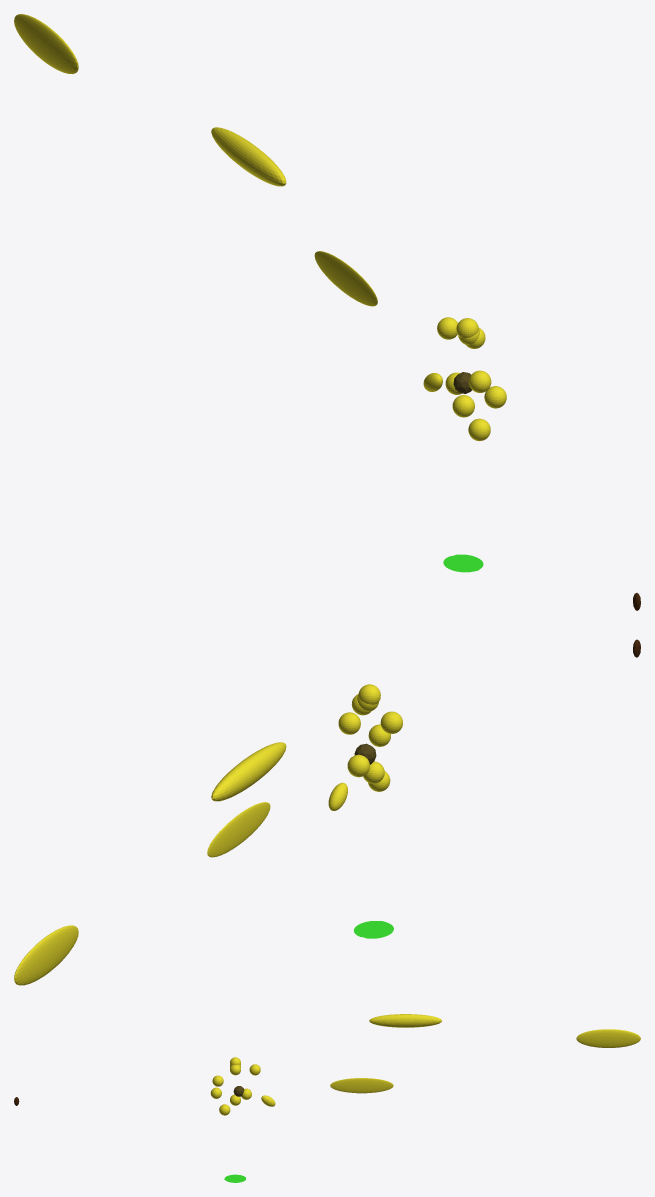
File: Sunflower.fbx
3 views of the same model, one above another, from view 1: azimuth 30°, elevation 25°; view 2: azimuth 150°, elevation 25°; view 3: azimuth 270°, elevation 25° (orthographic). The views are drawn at different scales.
Visible parts, largest first — view 1: Sphere.012, Sphere.011, Sphere.010; view 2: Sphere.012, Sphere.011, Sphere.010, Cylinder; view 3: Sphere.012, Sphere.011, Sphere.010.
Part boxes in pixels (x1=…): Sphere.012: x1=14, y1=14, x2=78, y2=73; Sphere.011: x1=211, y1=127, x2=286, y2=186; Sphere.010: x1=314, y1=251, x2=377, y2=306; Sphere.012: x1=14, y1=925, x2=78, y2=985; Sphere.011: x1=211, y1=742, x2=286, y2=801; Sphere.010: x1=207, y1=802, x2=270, y2=857; Cylinder: x1=354, y1=921, x2=393, y2=938; Sphere.012: x1=576, y1=1029, x2=640, y2=1047; Sphere.011: x1=369, y1=1014, x2=441, y2=1027; Sphere.010: x1=330, y1=1078, x2=393, y2=1093.
Size of the model in its own units: 791 by 3032 by 11118.
